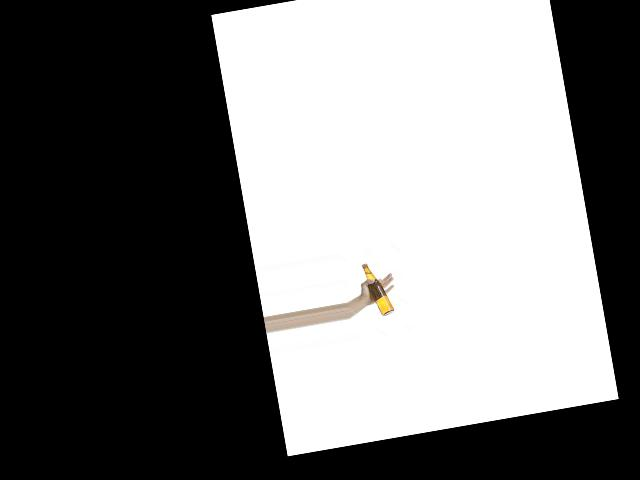beer: (361, 261, 393, 318)
